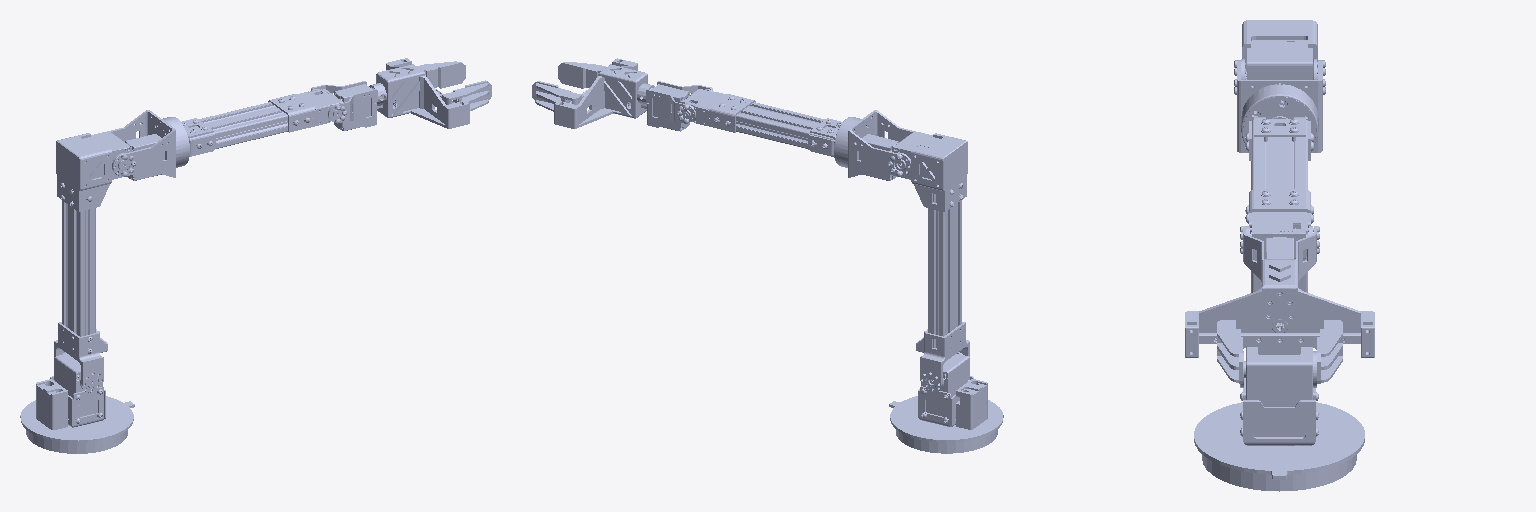
URDF robot description (cello_description):
<?xml version="1.0" encoding="utf-8"?>
<!-- This URDF was automatically created by SolidWorks to URDF Exporter! Originally created by Stephen Brawner (brawner@gmail.com) 
     Commit Version: 1.6.0-4-g7f85cfe  Build Version: 1.6.7995.38578
     For more information, please see http://wiki.ros.org/sw_urdf_exporter -->
<robot
  name="cello_description">
      <!-- 添加虚拟根链接 -->
  <link name="world"/>

  <!-- 添加固定关节 -->
  <joint name="world_to_base" type="fixed">
    <parent link="world"/>
    <child link="base_link"/>
    <origin xyz="0 0 0" rpy="0 0 0"/>
  </joint>
  <link
    name="base_link">
    <inertial>
      <origin
        xyz="-0.0185665958398472 0.000316871999368703 0.0207703344113748"
        rpy="0 0 0" />
      <mass
        value="0.860146103977898" />
      <inertia
        ixx="0.00164232799352603"
        ixy="-1.59502027902312E-06"
        ixz="6.71840187126512E-06"
        iyy="0.00170608787380969"
        iyz="-2.52071112943434E-06"
        izz="0.00312628775867856" />
    </inertial>
    <visual>
      <origin
        xyz="0 0 0"
        rpy="0 0 0" />
      <geometry>
        <mesh
          filename="package://cello_description/meshes/base_link.STL" />
      </geometry>
      <material
        name="">
        <color
          rgba="0.79216 0.81961 0.93333 1" />
      </material>
    </visual>
    <collision>
      <origin
        xyz="0 0 0"
        rpy="0 0 0" />
      <geometry>
        <mesh
          filename="package://cello_description/meshes/base_link.STL" />
      </geometry>
    </collision>
  </link>
  <link
    name="link1">
    <inertial>
      <origin
        xyz="-0.00293659514388736 -0.000166267230976035 0.0304852649924009"
        rpy="0 0 0" />
      <mass
        value="0.21149263410611" />
      <inertia
        ixx="0.000143717201104114"
        ixy="3.66663819476987E-08"
        ixz="-1.62979838275745E-07"
        iyy="0.000130150440516928"
        iyz="2.18212572705133E-07"
        izz="0.000192189810714277" />
    </inertial>
    <visual>
      <origin
        xyz="0 0 0"
        rpy="0 0 0" />
      <geometry>
        <mesh
          filename="package://cello_description/meshes/link1.STL" />
      </geometry>
      <material
        name="">
        <color
          rgba="0.792156862745098 0.819607843137255 0.933333333333333 1" />
      </material>
    </visual>
    <collision>
      <origin
        xyz="0 0 0"
        rpy="0 0 0" />
      <geometry>
        <mesh
          filename="package://cello_description/meshes/link1.STL" />
      </geometry>
    </collision>
  </link>
  <joint
    name="joint1"
    type="revolute">
    <origin
      xyz="0 0 0.0635"
      rpy="0 0 0" />
    <parent
      link="base_link" />
    <child
      link="link1" />
    <axis
      xyz="0 0 -1" />
    <limit
      lower="-2.27"
      upper="2.27"
      effort="100"
      velocity="1" />
  </joint>
  <link
    name="link2">
    <inertial>
      <origin
        xyz="0.189226589139135 -0.0113695378695626 -1.64041958140435E-05"
        rpy="0 0 0" />
      <mass
        value="0.226428575799244" />
      <inertia
        ixx="9.22325814551319E-05"
        ixy="-3.05844203290063E-07"
        ixz="3.39116118317826E-08"
        iyy="0.000275608542120228"
        iyz="1.47692248123962E-07"
        izz="0.000266467551887347" />
    </inertial>
    <visual>
      <origin
        xyz="0 0 0"
        rpy="0 0 0" />
      <geometry>
        <mesh
          filename="package://cello_description/meshes/link2.STL" />
      </geometry>
      <material
        name="">
        <color
          rgba="0.792156862745098 0.819607843137255 0.933333333333333 1" />
      </material>
    </visual>
    <collision>
      <origin
        xyz="0 0 0"
        rpy="0 0 0" />
      <geometry>
        <mesh
          filename="package://cello_description/meshes/link2.STL" />
      </geometry>
    </collision>
  </link>
  <joint
    name="joint2"
    type="revolute">
    <origin
      xyz="0.00220000000000002 0 0.0638"
      rpy="1.5707963267949 -1.5707963267949 0" />
    <parent
      link="link1" />
    <child
      link="link2" />
    <axis
      xyz="0 0 -1" />
    <limit
      lower="-1.57"
      upper="1.57"
      effort="100"
      velocity="1" />
  </joint>
  <link
    name="link3">
    <inertial>
      <origin
        xyz="0.0611057027698938 -0.00285373563465841 -0.000308179387542537"
        rpy="0 0 0" />
      <mass
        value="0.0623016674269844" />
      <inertia
        ixx="3.27641771814371E-05"
        ixy="1.36991125224236E-07"
        ixz="5.03629347284481E-11"
        iyy="2.8138233772221E-05"
        iyz="-2.07089691928148E-12"
        izz="2.00711122359931E-05" />
    </inertial>
    <visual>
      <origin
        xyz="0 0 0"
        rpy="0 0 0" />
      <geometry>
        <mesh
          filename="package://cello_description/meshes/link3.STL" />
      </geometry>
      <material
        name="">
        <color
          rgba="0.792156862745098 0.819607843137255 0.933333333333333 1" />
      </material>
    </visual>
    <collision>
      <origin
        xyz="0 0 0"
        rpy="0 0 0" />
      <geometry>
        <mesh
          filename="package://cello_description/meshes/link3.STL" />
      </geometry>
    </collision>
  </link>
  <joint
    name="joint3"
    type="revolute">
    <origin
      xyz="0.24760456425896 -0.0395999999999958 0"
      rpy="0 0 -1.5707963267949" />
    <parent
      link="link2" />
    <child
      link="link3" />
    <axis
      xyz="0 0 -1" />
    <limit
      lower="-1.57"
      upper="1.57"
      effort="100"
      velocity="1" />
  </joint>
  <link
    name="link4">
    <inertial>
      <origin
        xyz="0.000745555247010921 -0.00013836004199819 -0.106220756274278"
        rpy="0 0 0" />
      <mass
        value="0.0831858188735885" />
      <inertia
        ixx="0.000102578634806798"
        ixy="3.36167527477378E-08"
        ixz="1.6014343413356E-07"
        iyy="9.27604150962016E-05"
        iyz="9.03345793296015E-09"
        izz="1.82817305345178E-05" />
    </inertial>
    <visual>
      <origin
        xyz="0 0 0"
        rpy="0 0 0" />
      <geometry>
        <mesh
          filename="package://cello_description/meshes/link4.STL" />
      </geometry>
      <material
        name="">
        <color
          rgba="0.792156862745098 0.819607843137255 0.933333333333333 1" />
      </material>
    </visual>
    <collision>
      <origin
        xyz="0 0 0"
        rpy="0 0 0" />
      <geometry>
        <mesh
          filename="package://cello_description/meshes/link4.STL" />
      </geometry>
    </collision>
  </link>
  <joint
    name="joint4"
    type="revolute">
    <origin
      xyz="0.267124999999999 -0.00308000000000425 0"
      rpy="1.5707963267949 0 1.5707963267949" />
    <parent
      link="link3" />
    <child
      link="link4" />
    <axis
      xyz="0 0 -1" />
    <limit
      lower="-2.27"
      upper="2.27"
      effort="100"
      velocity="1" />
  </joint>
  <link
    name="link5">
    <inertial>
      <origin
        xyz="-0.00767914962421345 -0.0301815210702142 -0.000298728864315209"
        rpy="0 0 0" />
      <mass
        value="0.0181852018389062" />
      <inertia
        ixx="4.56965782990531E-06"
        ixy="-6.955617524318E-07"
        ixz="-2.59810713782181E-13"
        iyy="4.73221658107135E-06"
        iyz="-5.0896164968517E-11"
        izz="4.79023492543246E-06" />
    </inertial>
    <visual>
      <origin
        xyz="0 0 0"
        rpy="0 0 0" />
      <geometry>
        <mesh
          filename="package://cello_description/meshes/link5.STL" />
      </geometry>
      <material
        name="">
        <color
          rgba="0.792156862745098 0.819607843137255 0.933333333333333 1" />
      </material>
    </visual>
    <collision>
      <origin
        xyz="0 0 0"
        rpy="0 0 0" />
      <geometry>
        <mesh
          filename="package://cello_description/meshes/link5.STL" />
      </geometry>
    </collision>
  </link>
  <joint
    name="joint5"
    type="revolute">
    <origin
      xyz="0 0 0"
      rpy="-1.5707963267949 0 0" />
    <parent
      link="link4" />
    <child
      link="link5" />
    <axis
      xyz="0 0 -1" />
    <limit
      lower="-1.57"
      upper="1.57"
      effort="100"
      velocity="1" />
  </joint>
  <link
    name="link6">
    <inertial>
      <origin
        xyz="-0.00032948 0.0074237 -0.065676"
        rpy="0 0 0" />
      <mass
        value="0.053923" />
      <inertia
        ixx="2.7352E-05"
        ixy="-5.1138E-08"
        ixz="-5.3886E-08"
        iyy="8.1436E-05"
        iyz="-3.7561E-06"
        izz="7.0307E-05" />
    </inertial>
    <visual>
      <origin
        xyz="0 0 0"
        rpy="0 0 0" />
      <geometry>
        <mesh
          filename="package://cello_description/meshes/link6.STL" />
      </geometry>
      <material
        name="">
        <color
          rgba="0.792156862745098 0.819607843137255 0.933333333333333 1" />
      </material>
    </visual>
    <collision>
      <origin
        xyz="0 0 0"
        rpy="0 0 0" />
      <geometry>
        <mesh
          filename="package://cello_description/meshes/link6.STL" />
      </geometry>
    </collision>
  </link>
  <joint
    name="joint6"
    type="revolute">
    <origin
      xyz="-0.001325 -0.17066 0"
      rpy="1.5708 -1.5708 0" />
    <parent
      link="link5" />
    <child
      link="link6" />
    <axis
      xyz="0 0 -1" />
    <limit
      lower="-2.27"
      upper="2.27"
      effort="100"
      velocity="1" />
  </joint>
    <link
    name="link7_left">
    <inertial>
      <origin
        xyz="4.3309E-05 -0.039279 0.032103"
        rpy="0 0 0" />
      <mass
        value="0.011897" />
      <inertia
        ixx="1.5355E-06"
        ixy="-6.1549E-11"
        ixz="1.634E-21"
        iyy="8.5836E-07"
        iyz="2.0948E-07"
        izz="1.939E-06" />
    </inertial>
    <visual>
      <origin
        xyz="0 0 0"
        rpy="0 0 0" />
      <geometry>
        <mesh
          filename="package://cello_description/meshes/link7_left.STL" />
      </geometry>
      <material
        name="">
        <color
          rgba="0.792156862745098 0.819607843137255 0.933333333333333 1" />
      </material>
    </visual>
    <collision>
      <origin
        xyz="0 0 0"
        rpy="0 0 0" />
      <geometry>
        <mesh
          filename="package://cello_description/meshes/link7_left.STL" />
      </geometry>
    </collision>
  </link>
  <joint
    name="joint7_left"
    type="prismatic">
    <origin
      xyz="0 0.013687 0.01825"
      rpy="1.5708 0 -1.5708" />
    <parent
      link="link6" />
    <child
      link="link7_left" />
    <axis
      xyz="0 0 1" />
    <limit
      lower="-0.025"
      upper="0"
      effort="5"
      velocity="3.14" />
  </joint>
  <link
    name="link7_right">
    <inertial>
      <origin
        xyz="-4.3309E-05 -0.039279 -0.031203"
        rpy="0 0 0" />
      <mass
        value="0.011897" />
      <inertia
        ixx="1.5355E-06"
        ixy="6.1549E-11"
        ixz="1.3928E-21"
        iyy="8.5836E-07"
        iyz="-2.0948E-07"
        izz="1.939E-06" />
    </inertial>
    <visual>
      <origin
        xyz="0 0 0"
        rpy="0 0 0" />
      <geometry>
        <mesh
          filename="package://cello_description/meshes/link7_right.STL" />
      </geometry>
      <material
        name="">
        <color
          rgba="0.792156862745098 0.819607843137255 0.933333333333333 1" />
      </material>
    </visual>
    <collision>
      <origin
        xyz="0 0 0"
        rpy="0 0 0" />
      <geometry>
        <mesh
          filename="package://cello_description/meshes/link7_right.STL" />
      </geometry>
    </collision>
  </link>
  <joint
    name="joint7_right"
    type="prismatic">
    <origin
      xyz="0 0.013687 0.01825"
      rpy="1.5708 0 -1.5708" />
    <parent
      link="link6" />
    <child
      link="link7_right" />
    <axis
      xyz="0 0 -1" />
    <limit
      lower="-0.025"
      upper="0"
      effort="5"
      velocity="3.14" />
    <mimic joint="joint7_left" />
  </joint>
</robot>

--- Render facts (derived) ---
Views: 3 orthographic renders of the robot side by side, from view 1: azimuth 30°, elevation 25°; view 2: azimuth 150°, elevation 25°; view 3: azimuth 270°, elevation 25°.
Robot: cello_description — 10 links, 9 joints (6 revolute, 2 prismatic, 1 fixed); root link world; default pose: all joints at 0.
Visible links, largest first — view 1: link2, link1, link4, link6, link3, link5, link7_left, link7_right; view 2: link2, link1, link4, link6, link3, link5, link7_right, link7_left; view 3: link1, link6, link4, link2, link3, link5, link7_right, link7_left.
Boxes of the visible links, x1,y1,x2,y2 form: link2: (54,131,131,386); link1: (20,352,134,453); link4: (181,89,342,156); link6: (369,58,469,128); link3: (110,110,189,180); link5: (310,81,377,130); link7_left: (417,61,465,88); link7_right: (442,80,491,110); link2: (892,131,969,386); link1: (889,352,1003,453); link4: (681,89,842,156); link6: (554,58,654,128); link3: (834,110,913,180); link5: (646,81,713,131); link7_right: (558,62,605,88); link7_left: (532,81,581,111); link1: (1194,347,1364,491); link6: (1185,259,1374,357); link4: (1245,116,1313,258); link2: (1241,20,1317,354); link3: (1234,60,1325,152); link5: (1240,226,1319,281); link7_right: (1217,320,1242,383); link7_left: (1317,320,1342,383).
Bounding box of the posed robot: 0.5586 × 0.135 × 0.3469 m (x, y, z).
8 mesh visuals loaded from 9 distinct referenced files (8 binary STL); not drawn: 1 (reference not matched to a file when rendering).
